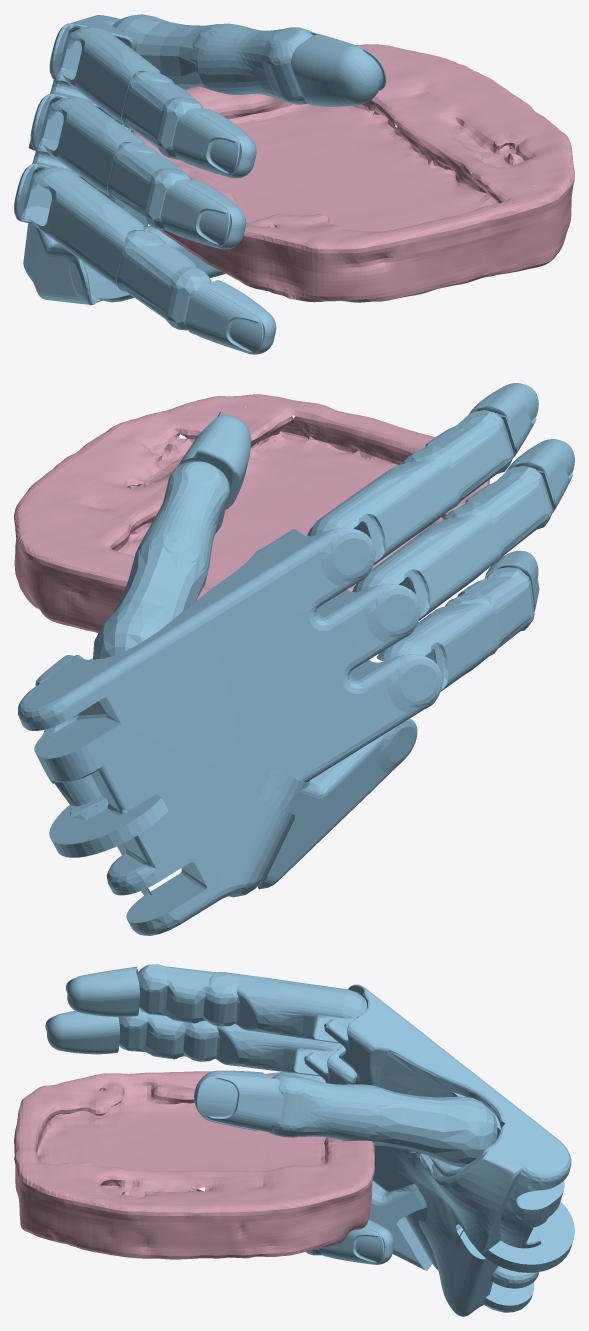
3 views of the same model, one above another, from view 1: azimuth 30°, elevation 25°; view 2: azimuth 150°, elevation 25°; view 3: azimuth 270°, elevation 25° (orthographic). The views are drawn at different scales.
Parts seen in each view (by area): view 1: hand, world; view 2: hand, world; view 3: hand, world.
Boxes of the visible parts, bbox=[...] form: hand: bbox=[14, 14, 386, 354]; world: bbox=[131, 44, 574, 302]; hand: bbox=[18, 383, 574, 935]; world: bbox=[14, 394, 489, 632]; hand: bbox=[45, 964, 574, 1316]; world: bbox=[14, 1071, 374, 1259].
Size of the model in its own units: 0.1527 by 0.1207 by 0.2043.
